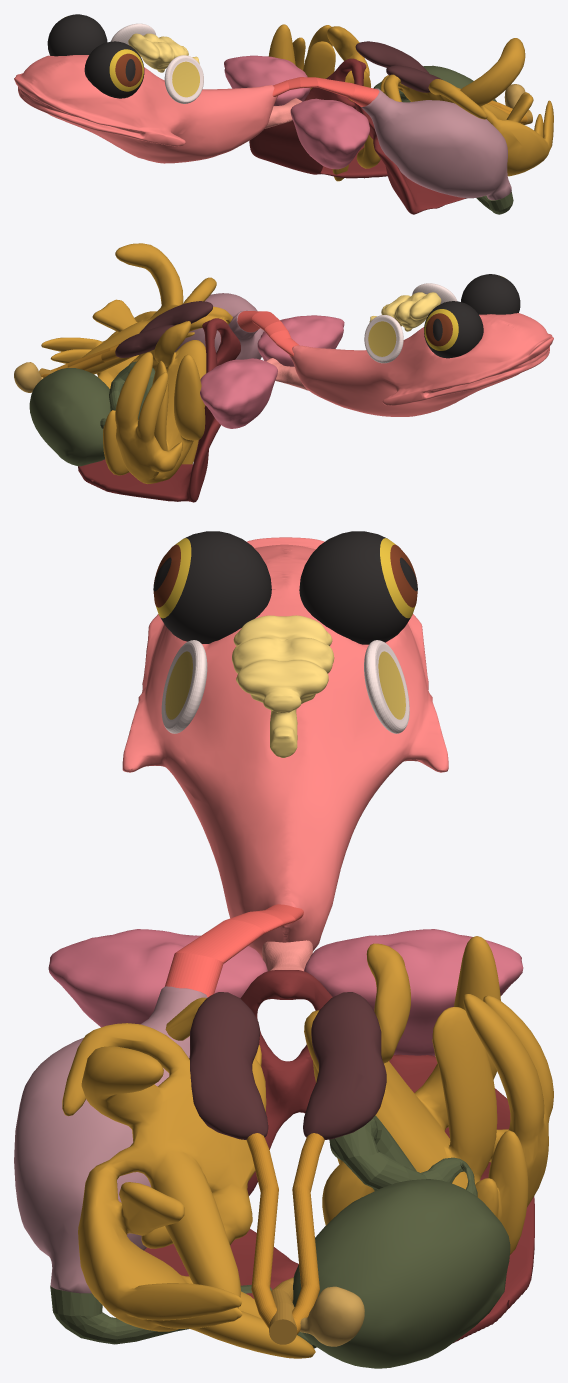
Rendered from organs.fbx.
3 views of the same model, one above another, from view 1: azimuth 30°, elevation 25°; view 2: azimuth 150°, elevation 25°; view 3: azimuth 270°, elevation 25° (orthographic). The views are drawn at different scales.
Parts seen in each view (by area): view 1: Cube.008, Cylinder.001, Cube.006, Cube.001, Cube.004, Sphere, Cube.007, Sphere.001, Cube, Cylinder.005, Cube.011, Cube.002 (+3 smaller); view 2: Cube.008, Cube.007, Cube.006, Cube.001, Cube.002, Cube.004, Sphere, Sphere.001, Cube, Cylinder.001, Cube.011, Cylinder.005 (+4 smaller); view 3: Cube.008, Cube.006, Cube.007, Cube.002, Cube.001, Sphere, Cube, Cylinder.001, Cube.004, Cube.011, Cylinder, Cylinder.002 (+5 smaller).
Part boxes in pixels (x1,y1,x2,y2): Cube.008: (14, 55, 277, 163); Cylinder.001: (361, 88, 511, 200); Cube.006: (380, 38, 553, 176); Cube.001: (224, 55, 369, 169); Cube.004: (249, 58, 466, 214); Sphere: (47, 14, 144, 98); Cube.007: (268, 24, 380, 181); Sphere.001: (111, 23, 203, 103); Cube: (355, 41, 442, 92); Cylinder.005: (272, 77, 379, 106); Cube.011: (128, 33, 199, 72); Cube.002: (402, 65, 496, 102); Cube.008: (289, 313, 553, 416); Cube.007: (103, 321, 206, 483); Cube.006: (41, 243, 232, 388); Cube.001: (200, 315, 344, 428); Cube.002: (29, 368, 110, 466); Cube.004: (78, 318, 240, 502); Sphere: (424, 274, 520, 358); Sphere.001: (364, 283, 457, 363); Cube: (115, 301, 212, 357); Cylinder.001: (175, 293, 264, 359); Cube.011: (369, 292, 441, 331); Cylinder.005: (237, 311, 298, 356); Cube.008: (122, 537, 448, 958); Cube.006: (62, 997, 315, 1358); Cube.007: (304, 936, 553, 1254); Cube.002: (292, 1179, 510, 1368); Cube.001: (48, 929, 523, 1055); Sphere: (153, 531, 417, 644); Cube: (189, 992, 386, 1139); Cylinder.001: (14, 986, 207, 1293); Cube.004: (144, 970, 534, 1342); Cube.011: (232, 615, 334, 757); Cylinder: (50, 1115, 477, 1348); Cylinder.002: (246, 1133, 324, 1334).
Bounding box in the file's own units: 520 × 234 × 238.
